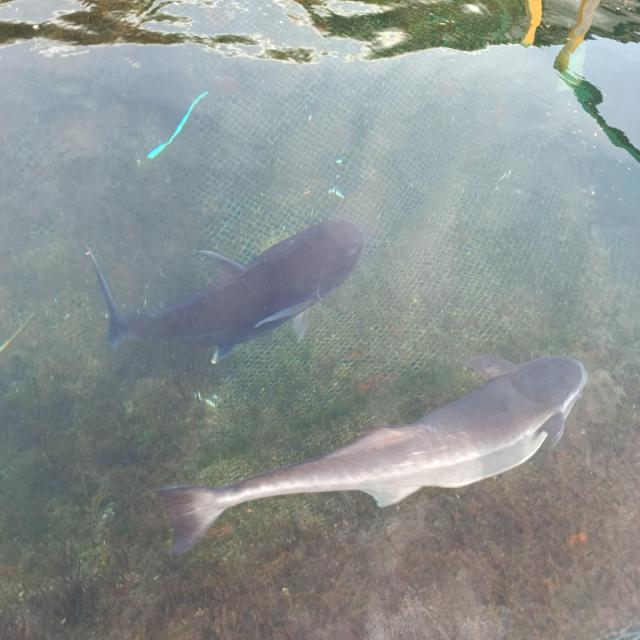ikan: (151, 352, 588, 556), (84, 217, 366, 366), (146, 89, 209, 161)
